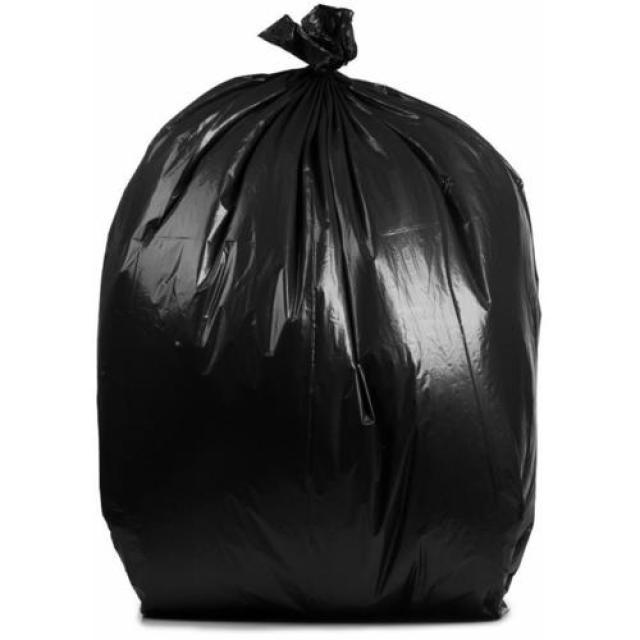Trashbag: (91, 51, 540, 620)
